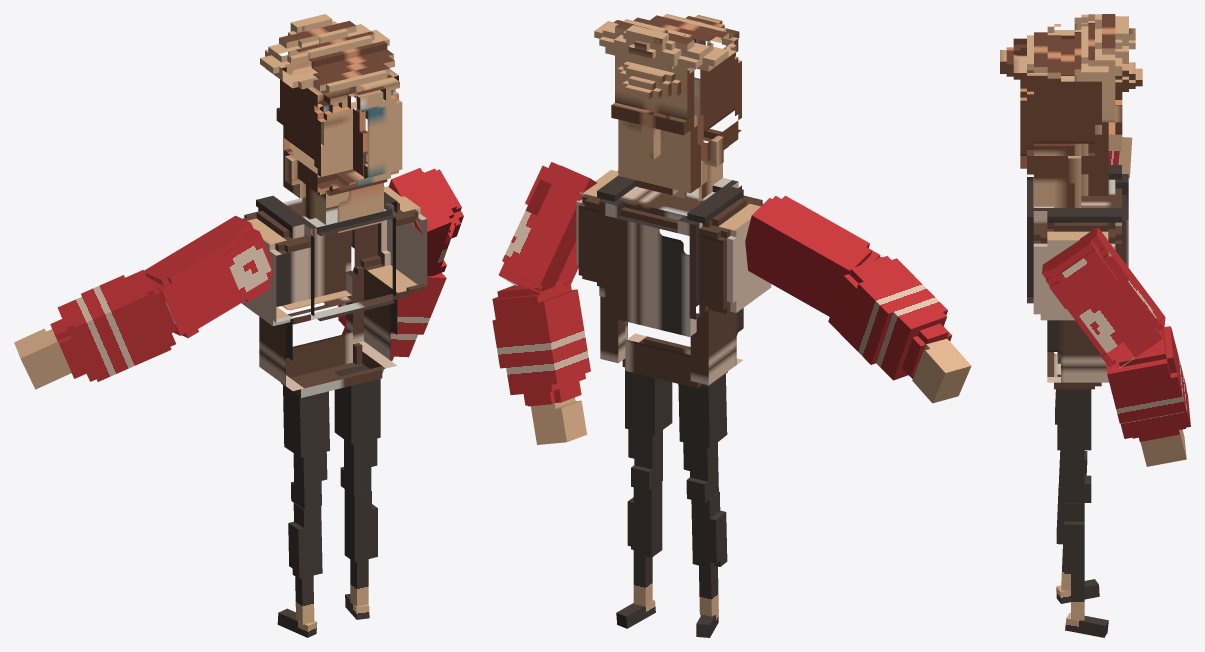
File: police_ldle.dae
3 renders of one model, left to right at view 1: azimuth 30°, elevation 25°; view 2: azimuth 150°, elevation 25°; view 3: azimuth 270°, elevation 25°, orthographic. The views are drawn at different scales.
Parts seen in each view (by area): view 1: Hugo-local, Head-local, Arm.R-local, Forearm.R-local, Forefoot.L-local, Forefoot.R-local, Forearm.L-local, Leg.R-local, Leg.L-local, Arm.L-local, Hand.R-local, Foot.R-local; view 2: Hugo-local, Head-local, Arm.L-local, Arm.R-local, Forearm.R-local, Forearm.L-local, Forefoot.R-local, Forefoot.L-local, Leg.L-local, Leg.R-local, Hand.R-local, Hand.L-local (+1 smaller); view 3: Head-local, Hugo-local, Forearm.L-local, Arm.L-local, Forefoot.L-local, Leg.L-local, Hand.L-local, Leg.R-local, Foot.L-local, Foot.R-local, Hand.R-local, Forefoot.R-local.
Boxes of the visible parts, left/top/right/bottom form: Hugo-local: left=241, top=186, right=427, bottom=397; Head-local: left=260, top=14, right=402, bottom=235; Arm.R-local: left=50, top=270, right=176, bottom=381; Forearm.R-local: left=144, top=215, right=273, bottom=338; Forefoot.L-local: left=334, top=364, right=380, bottom=495; Forefoot.R-local: left=283, top=385, right=329, bottom=509; Forearm.L-local: left=388, top=168, right=463, bottom=276; Leg.R-local: left=288, top=503, right=322, bottom=624; Leg.L-local: left=344, top=489, right=377, bottom=606; Arm.L-local: left=338, top=266, right=446, bottom=360; Hand.R-local: left=14, top=328, right=71, bottom=389; Foot.R-local: left=277, top=608, right=317, bottom=637; Hugo-local: left=576, top=170, right=771, bottom=388; Head-local: left=594, top=14, right=741, bottom=201; Arm.L-local: left=492, top=279, right=590, bottom=406; Arm.R-local: left=828, top=256, right=951, bottom=380; Forearm.R-local: left=745, top=195, right=880, bottom=316; Forearm.L-local: left=498, top=162, right=596, bottom=292; Forefoot.R-local: left=678, top=374, right=727, bottom=502; Forefoot.L-local: left=625, top=367, right=672, bottom=490; Leg.L-local: left=627, top=481, right=662, bottom=606; Leg.R-local: left=691, top=491, right=727, bottom=616; Hand.R-local: left=912, top=338, right=971, bottom=403; Hand.L-local: left=531, top=397, right=586, bottom=444; Head-local: left=1000, top=14, right=1142, bottom=207; Hugo-local: left=1027, top=165, right=1128, bottom=389; Forearm.L-local: left=1042, top=226, right=1165, bottom=368; Arm.L-local: left=1106, top=326, right=1190, bottom=441; Forefoot.L-local: left=1057, top=374, right=1091, bottom=502; Leg.L-local: left=1064, top=503, right=1084, bottom=620; Hand.L-local: left=1140, top=429, right=1186, bottom=466; Leg.R-local: left=1056, top=475, right=1070, bottom=590; Foot.L-local: left=1065, top=613, right=1108, bottom=637; Foot.R-local: left=1056, top=579, right=1099, bottom=603; Hand.R-local: left=1118, top=137, right=1132, bottom=178; Forefoot.R-local: left=1055, top=352, right=1087, bottom=477.
Bounding box in the file's own units: 73.87 × 96.56 × 28.13.
